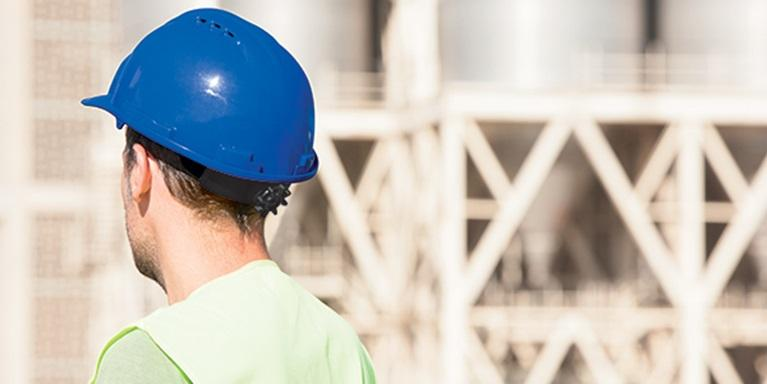helmet: (79, 8, 321, 186)
